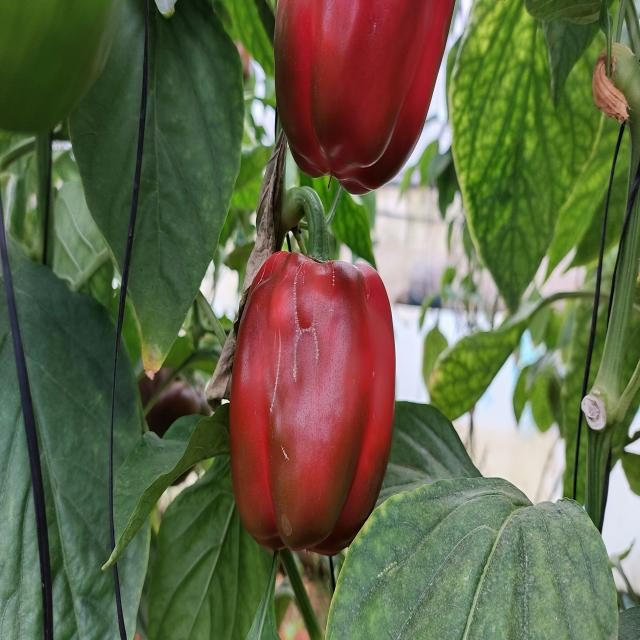Red-Ready-to-Harvest: (236, 234, 390, 538), (273, 2, 461, 192)
